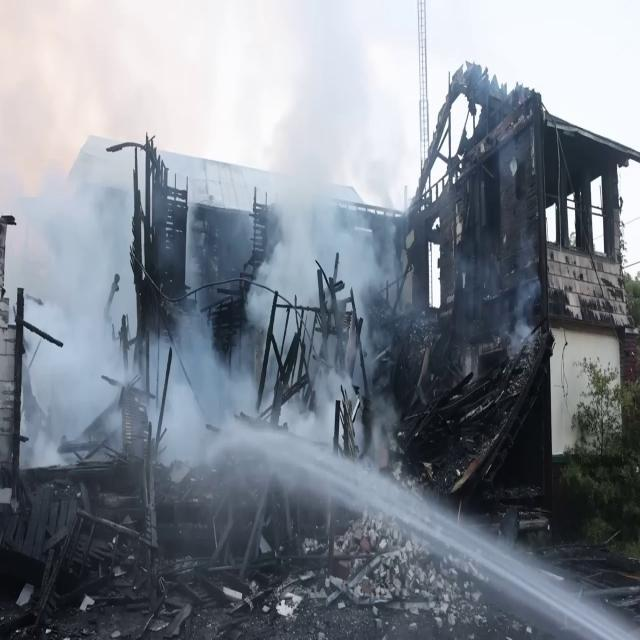Smoke: (36, 148, 406, 534)
